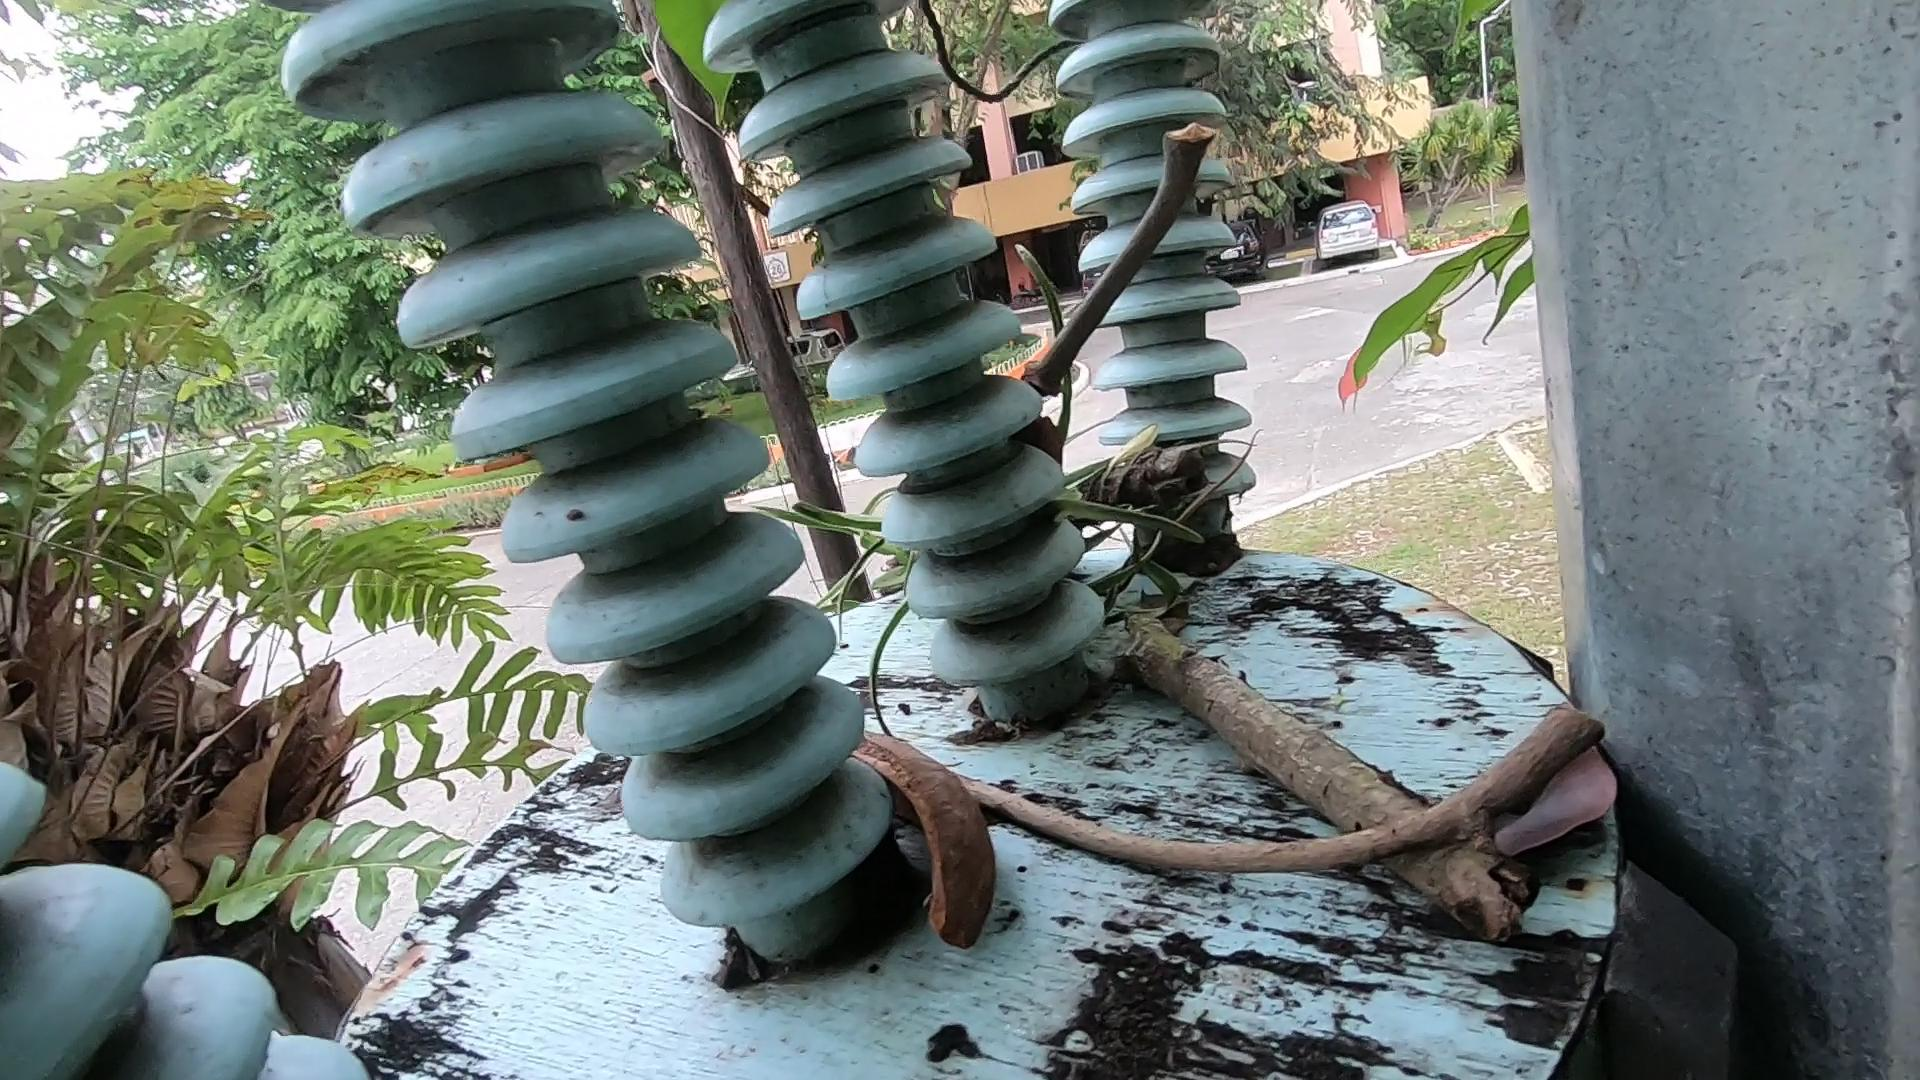branch with leaves: (841, 436, 1501, 951)
leaf: (1505, 709, 1622, 882)
mahogany fruit: (818, 711, 1069, 992)
tree branch: (924, 773, 1615, 874), (996, 123, 1197, 440)
